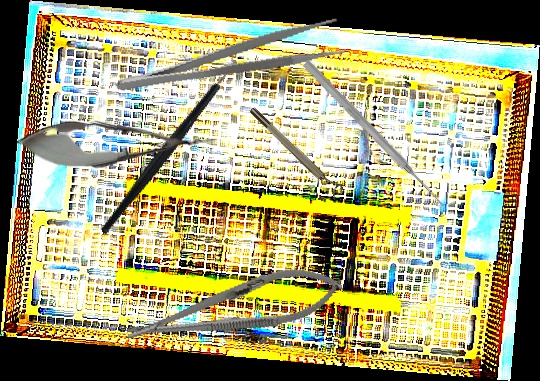Chopper: (55, 45, 282, 236)
Dressing Forceps: (110, 16, 347, 97)
Fixation Ring: (247, 101, 347, 201)
Micro Scissor: (17, 116, 217, 171)
Needle Holder: (120, 255, 348, 361)
Pusher: (300, 58, 449, 211)
